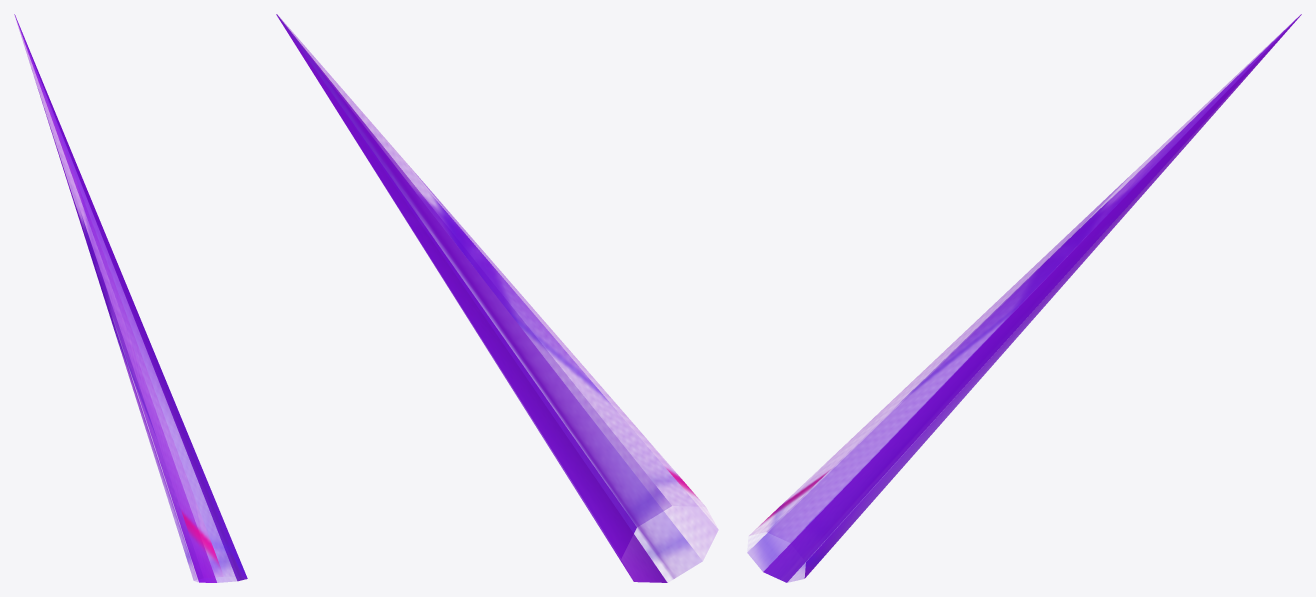
The model's file is beamL3.glb.
The picture shows the model from 3 angles, left to right: view 1: azimuth 30°, elevation 25°; view 2: azimuth 150°, elevation 25°; view 3: azimuth 270°, elevation 25°; orthographic projection. The views are drawn at different scales.
Visible parts, largest first — view 1: 柱体.026; view 2: 柱体.026; view 3: 柱体.026.
Boxes of the visible parts, <box> form: 柱体.026: <box>14,14,247,582</box>; 柱体.026: <box>276,14,717,582</box>; 柱体.026: <box>747,14,1301,582</box>.
Size of the model in its own units: 2.75 by 25.86 by 23.3.
1 material, 1 textured.
